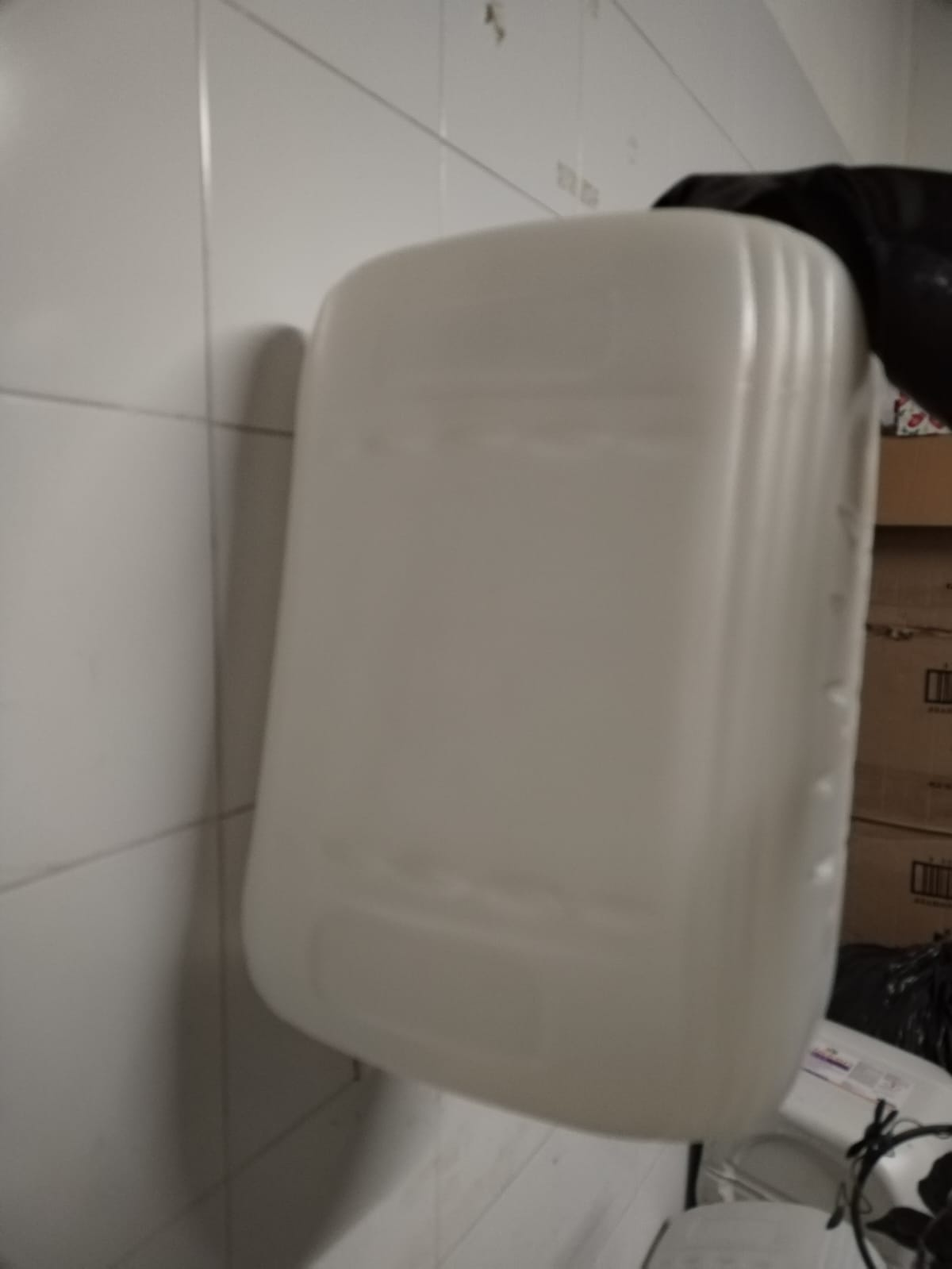Plastico: (241, 207, 883, 1138)
